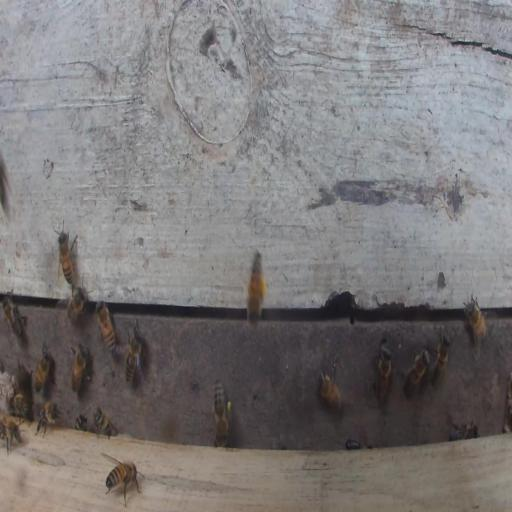bee: (105, 460, 140, 508), (210, 376, 233, 448), (246, 249, 267, 325), (1, 290, 28, 345), (96, 299, 121, 358), (403, 347, 430, 397), (371, 346, 393, 406), (314, 369, 342, 416), (463, 295, 487, 344), (125, 320, 143, 384), (431, 331, 450, 388), (34, 400, 60, 439), (71, 342, 90, 393), (0, 413, 23, 454), (57, 231, 74, 285), (34, 346, 52, 394), (92, 406, 118, 439), (66, 286, 87, 322), (10, 393, 30, 420), (450, 424, 478, 441), (75, 412, 88, 431), (345, 439, 363, 450)
